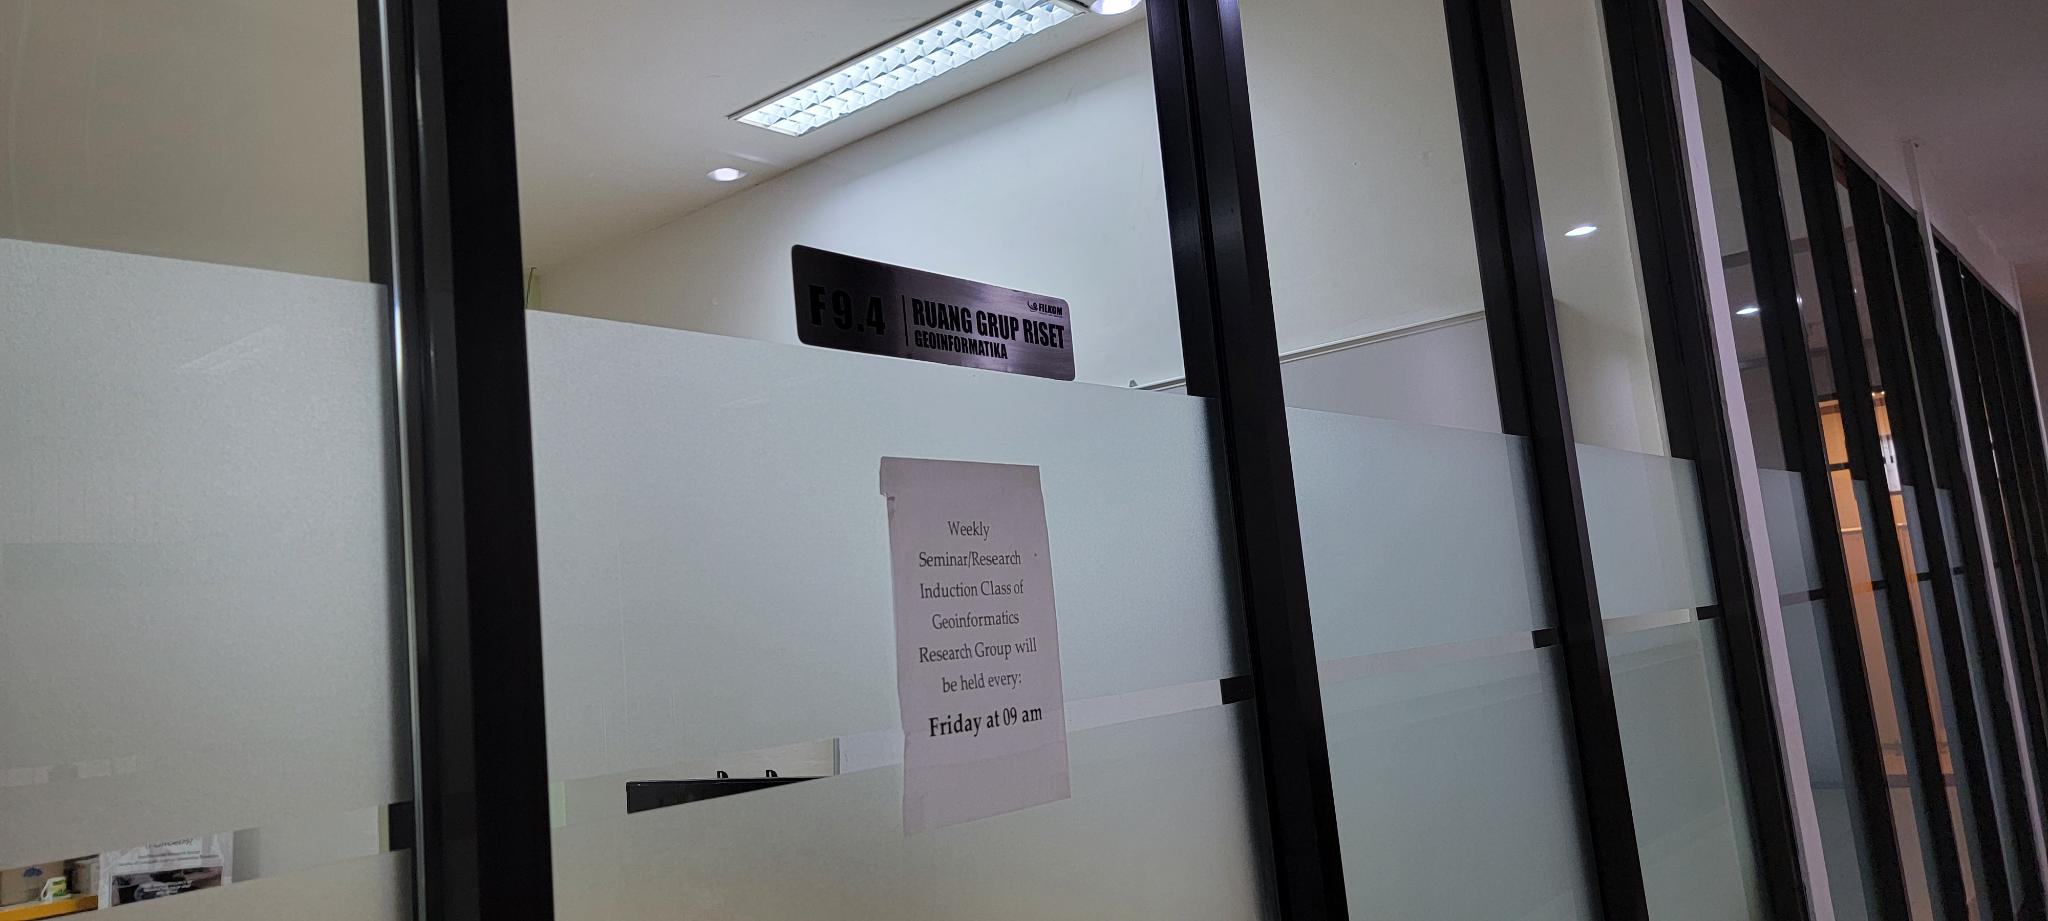plate: (790, 242, 1075, 385)
